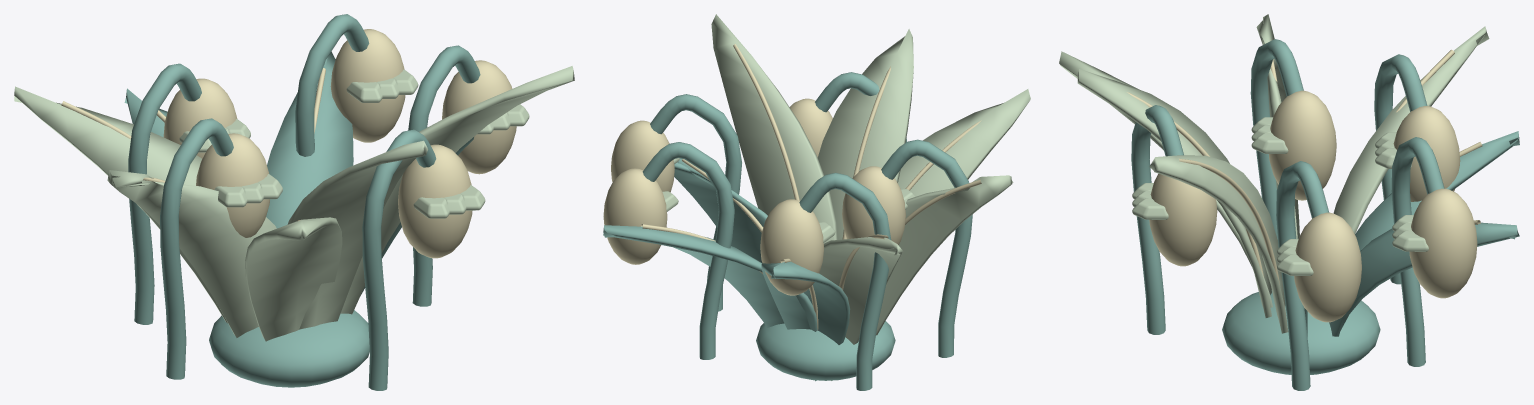
File: bio_mist_leaf_03_near.glb
3 renders of one model, left to right at view 1: azimuth 30°, elevation 25°; view 2: azimuth 150°, elevation 25°; view 3: azimuth 270°, elevation 25°, orthographic. The views are drawn at different scales.
Visible parts, largest first — view 1: Cupped condensate leaf.004, Cupped condensate leaf.007, Root rosette, Cupped condensate leaf.002, Cupped condensate leaf.003, Cupped condensate leaf.001, Arched fruit stem.004, Pendant spore capsule.002, Arched fruit stem.002, Arched fruit stem.001, Pendant spore capsule.003, Cupped condensate leaf.005 (+10 smaller); view 2: Cupped condensate leaf.005, Cupped condensate leaf.002, Cupped condensate leaf.004, Root rosette, Cupped condensate leaf.007, Cupped condensate leaf.003, Arched fruit stem.003, Arched fruit stem.001, Pendant spore capsule.001, Arched fruit stem.004, Pendant spore capsule.003, Cupped condensate leaf.001 (+10 smaller); view 3: Root rosette, Pendant spore capsule.003, Pendant spore capsule, Cupped condensate leaf.005, Pendant spore capsule.004, Arched fruit stem, Cupped condensate leaf.002, Pendant spore capsule.002, Cupped condensate leaf.001, Arched fruit stem.002, Arched fruit stem.003, Arched fruit stem.004 (+13 smaller).
Boxes of the visible parts, x1=… form: Cupped condensate leaf.004: x1=107, y1=170, x2=276, y2=337; Cupped condensate leaf.007: x1=245, y1=217, x2=342, y2=341; Root rosette: x1=209, y1=310, x2=369, y2=387; Cupped condensate leaf.002: x1=287, y1=140, x2=427, y2=329; Cupped condensate leaf.003: x1=266, y1=51, x2=353, y2=228; Cupped condensate leaf.001: x1=14, y1=86, x2=227, y2=323; Arched fruit stem.004: x1=160, y1=118, x2=233, y2=379; Pendant spore capsule.002: x1=398, y1=144, x2=472, y2=258; Arched fruit stem.002: x1=362, y1=129, x2=436, y2=390; Arched fruit stem.001: x1=128, y1=63, x2=201, y2=324; Pendant spore capsule.003: x1=330, y1=29, x2=405, y2=142; Cupped condensate leaf.005: x1=340, y1=66, x2=574, y2=314; Cupped condensate leaf.005: x1=711, y1=14, x2=837, y2=243; Cupped condensate leaf.002: x1=817, y1=29, x2=913, y2=239; Cupped condensate leaf.004: x1=876, y1=175, x2=1013, y2=335; Root rosette: x1=756, y1=321, x2=895, y2=380; Cupped condensate leaf.007: x1=898, y1=89, x2=1030, y2=196; Cupped condensate leaf.003: x1=603, y1=225, x2=817, y2=331; Arched fruit stem.003: x1=642, y1=142, x2=734, y2=359; Arched fruit stem.001: x1=799, y1=172, x2=891, y2=390; Pendant spore capsule.001: x1=760, y1=199, x2=824, y2=295; Arched fruit stem.004: x1=881, y1=139, x2=972, y2=357; Pendant spore capsule.003: x1=603, y1=168, x2=667, y2=264; Cupped condensate leaf.001: x1=819, y1=237, x2=903, y2=380; Root rosette: x1=1222, y1=290, x2=1380, y2=374; Pendant spore capsule.003: x1=1409, y1=188, x2=1477, y2=298; Pendant spore capsule: x1=1294, y1=212, x2=1361, y2=322; Cupped condensate leaf.005: x1=1149, y1=155, x2=1288, y2=333; Pendant spore capsule.004: x1=1268, y1=90, x2=1336, y2=200; Arched fruit stem: x1=1276, y1=161, x2=1329, y2=390; Cupped condensate leaf.002: x1=1077, y1=69, x2=1271, y2=317; Pendant spore capsule.002: x1=1149, y1=173, x2=1217, y2=266; Cupped condensate leaf.001: x1=1333, y1=26, x2=1489, y2=233; Arched fruit stem.002: x1=1131, y1=105, x2=1183, y2=334; Arched fruit stem.003: x1=1391, y1=137, x2=1444, y2=366; Arched fruit stem.004: x1=1250, y1=39, x2=1303, y2=239.
Bounding box in the file's own units: 1.83 × 1.25 × 1.74.
